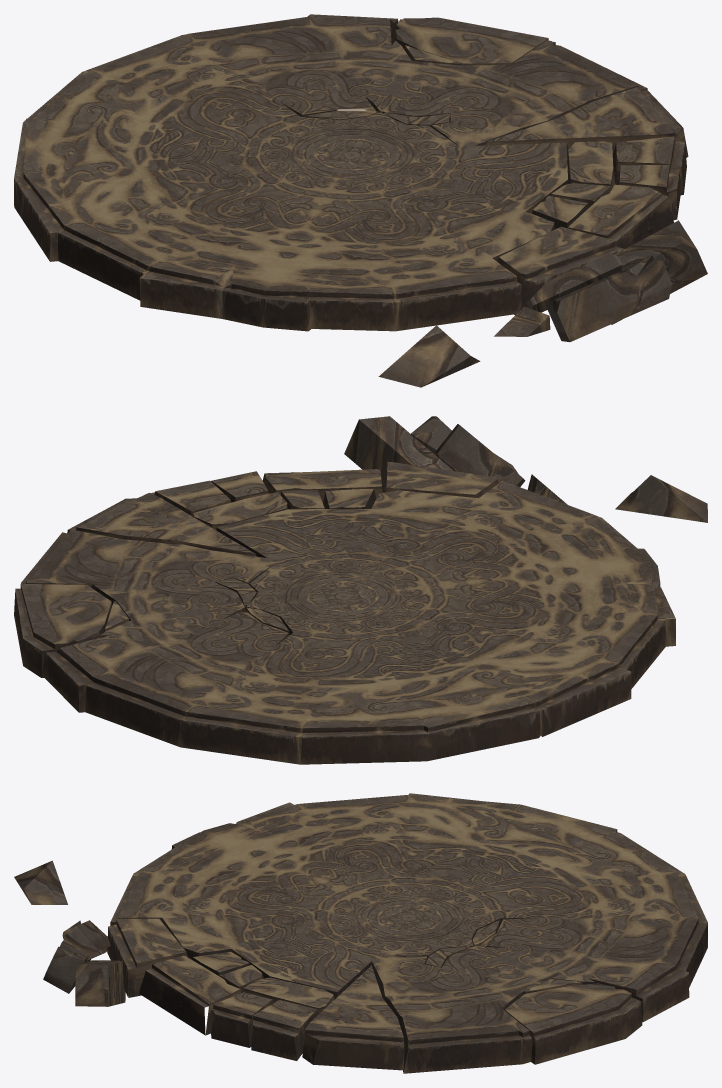
File: xsm_taizi_1.FBX
The picture shows the model from 3 angles, top to bottom: view 1: azimuth 30°, elevation 25°; view 2: azimuth 150°, elevation 25°; view 3: azimuth 270°, elevation 25°; orthographic projection. The views are drawn at different scales.
Visible parts, largest first — view 1: xsm_taizi_1; view 2: xsm_taizi_1; view 3: xsm_taizi_1.
Boxes of the visible parts, bbox=[...] form: xsm_taizi_1: bbox=[14, 14, 707, 387]; xsm_taizi_1: bbox=[14, 416, 707, 764]; xsm_taizi_1: bbox=[14, 793, 707, 1073].
Size of the model in its own units: 2527 by 329 by 2902.
